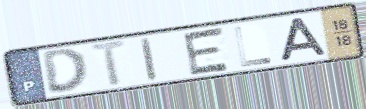A: (278, 16, 330, 64)
D: (40, 46, 91, 95)
E: (181, 25, 233, 78)
I: (139, 35, 160, 83)
L: (232, 24, 275, 69)
T: (88, 38, 132, 90)
